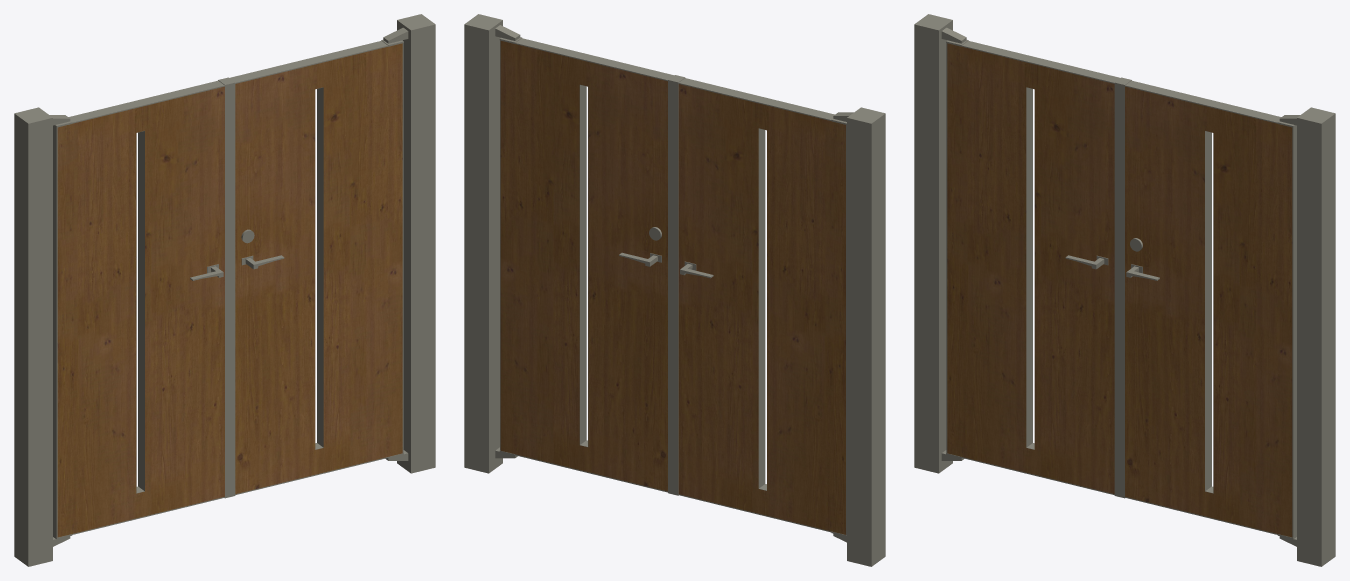
The model's file is 07-07-16_naturalpain.fbx.
3 renders of one model, left to right at view 1: azimuth 30°, elevation 25°; view 2: azimuth 150°, elevation 25°; view 3: azimuth 330°, elevation 25°, orthographic.
Parts seen in each view (by area): view 1: 07-07-16naturalpain; view 2: 07-07-16naturalpain; view 3: 07-07-16naturalpain.
Part boxes in pixels (left/top/right/bottom): 07-07-16naturalpain: left=14, top=14, right=435, bottom=566; 07-07-16naturalpain: left=464, top=14, right=885, bottom=566; 07-07-16naturalpain: left=914, top=14, right=1335, bottom=566.
Size of the model in its own units: 165 by 172 by 16.7.
2 materials, 2 textured.
